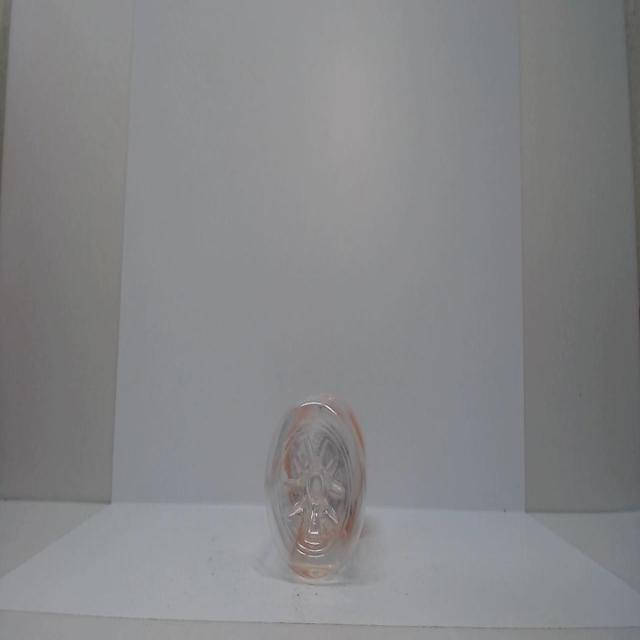bottle: (260, 389, 373, 586)
